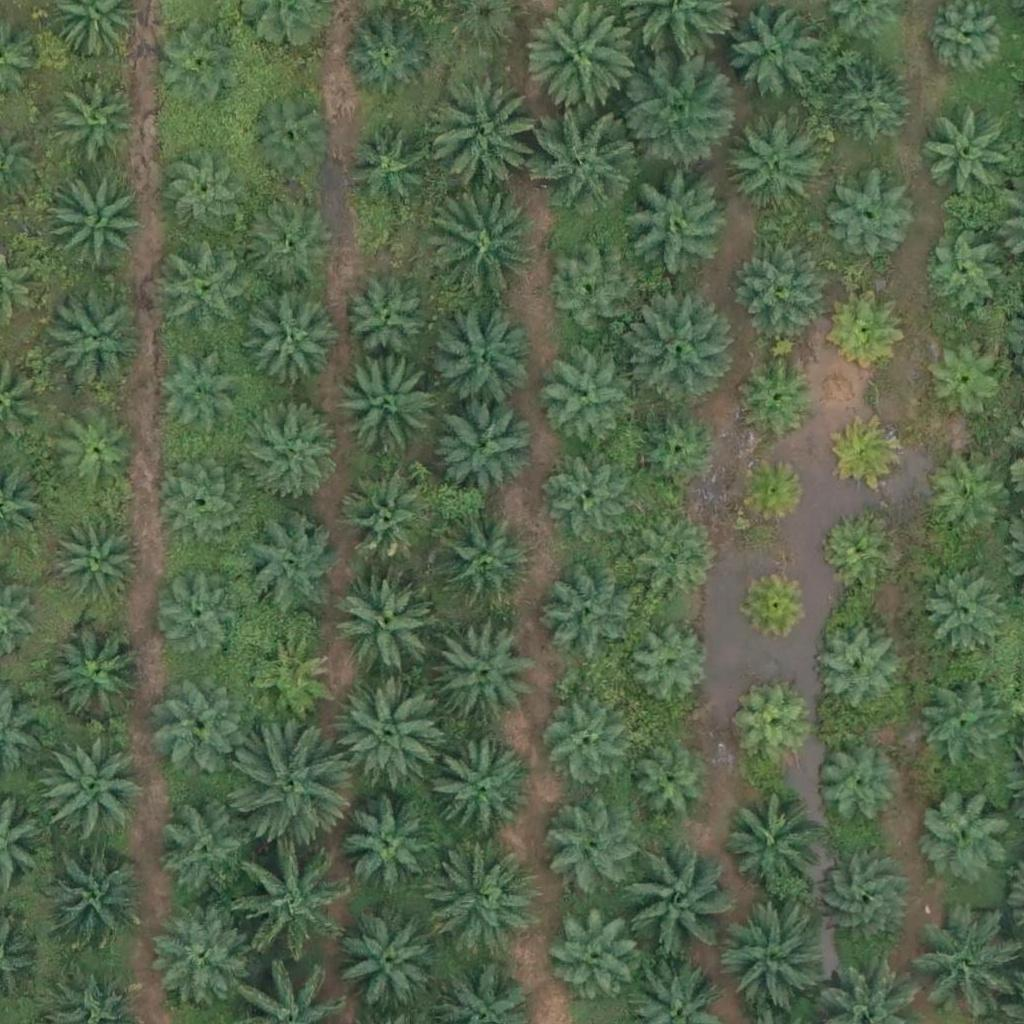Kelapa_Sawit: (425, 80, 538, 194), (423, 739, 536, 852), (424, 848, 537, 961), (334, 905, 447, 1018), (620, 57, 733, 170), (621, 167, 734, 280), (622, 290, 735, 403), (531, 103, 644, 216), (421, 194, 534, 307), (233, 731, 346, 844), (717, 905, 829, 1019), (615, 844, 727, 957), (335, 683, 447, 796), (28, 730, 140, 843), (235, 856, 347, 969), (908, 917, 1008, 1018), (721, 793, 821, 894), (545, 798, 645, 899), (434, 618, 534, 719), (341, 798, 441, 899), (158, 908, 258, 1009), (919, 107, 1019, 208), (723, 111, 823, 212), (430, 310, 530, 411), (435, 393, 535, 494), (335, 566, 435, 667), (434, 510, 534, 611), (541, 562, 641, 663), (337, 358, 437, 459), (241, 395, 341, 496), (46, 286, 146, 387), (915, 783, 1015, 883), (813, 851, 913, 951), (162, 801, 262, 901), (46, 625, 146, 725), (43, 854, 143, 954), (722, 6, 822, 106), (242, 513, 342, 613), (158, 241, 258, 341), (47, 169, 147, 269), (150, 569, 238, 658), (810, 625, 898, 713), (536, 697, 624, 785), (632, 405, 720, 493), (632, 523, 720, 611), (247, 89, 335, 177), (340, 119, 428, 207), (918, 333, 1006, 421), (923, 456, 1011, 544), (542, 361, 630, 449), (543, 453, 631, 541), (345, 12, 433, 100), (345, 269, 433, 357), (161, 151, 249, 239), (153, 354, 241, 442), (157, 458, 245, 546), (59, 521, 147, 609), (915, 682, 1002, 771), (812, 741, 899, 829), (628, 621, 715, 709), (625, 745, 712, 833), (551, 913, 638, 1001), (157, 674, 244, 762), (826, 61, 913, 149), (921, 231, 1008, 319), (922, 565, 1009, 653), (736, 241, 823, 329), (823, 172, 910, 260), (548, 250, 635, 338), (340, 475, 427, 563), (246, 198, 333, 286), (154, 22, 241, 110), (249, 299, 336, 387), (56, 70, 143, 158), (53, 408, 140, 496), (248, 635, 335, 723), (817, 511, 892, 587), (734, 691, 809, 767), (739, 564, 814, 640), (832, 415, 907, 491), (742, 357, 817, 432), (734, 454, 809, 529), (832, 293, 907, 368)
